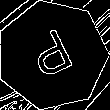P_SE: (24, 24, 81, 86)
